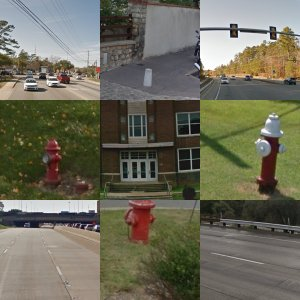公車: (205, 59, 275, 88)
汽車: (100, 110, 151, 144), (223, 220, 266, 260), (62, 238, 89, 260), (37, 234, 59, 253), (128, 47, 158, 60), (132, 58, 159, 72), (163, 45, 186, 60), (282, 141, 300, 160), (37, 150, 61, 164), (242, 139, 260, 156)
行人穿越道: (16, 44, 99, 99), (100, 155, 200, 197)
